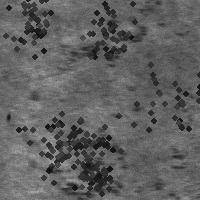rolled-in_scale: (7, 92, 103, 188), (32, 94, 128, 190), (116, 48, 200, 156), (49, 1, 161, 75), (29, 124, 127, 199), (63, 0, 145, 72), (0, 0, 71, 64), (130, 139, 190, 198), (71, 153, 117, 199)
